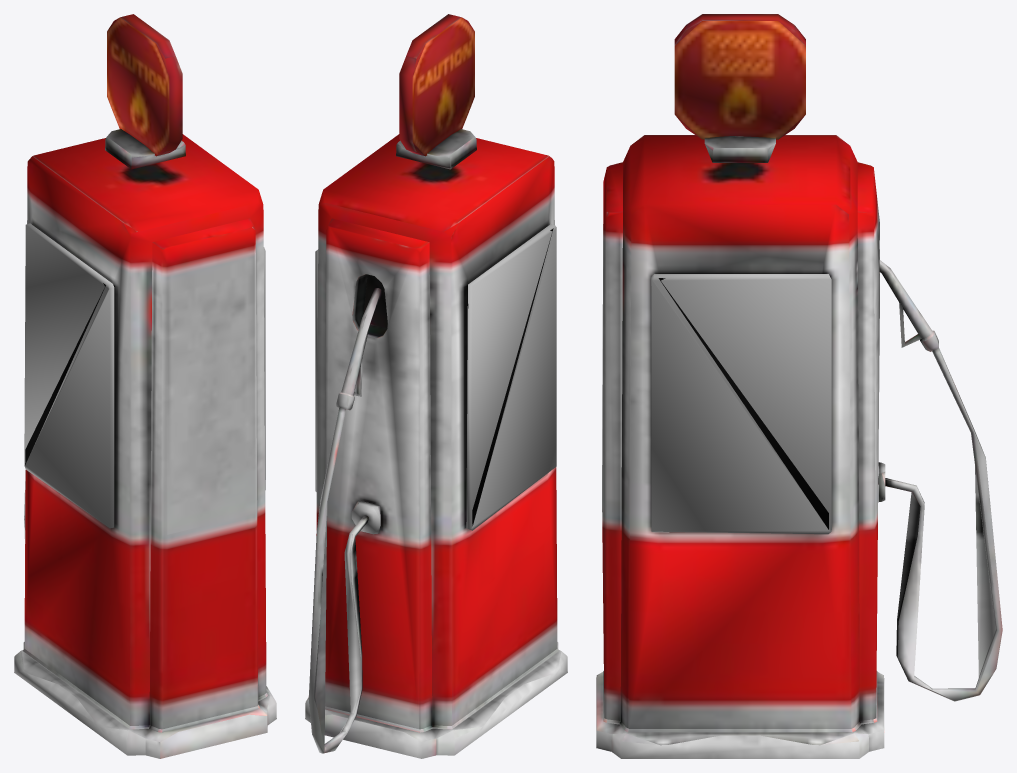
The model's file is fuel-dispenser.lod1.glb.
The picture shows the model from 3 angles, left to right: view 1: azimuth 30°, elevation 25°; view 2: azimuth 150°, elevation 25°; view 3: azimuth 270°, elevation 25°; orthographic projection. The views are drawn at different scales.
Parts seen in each view (by area): view 1: defaultMaterial (×2); view 2: defaultMaterial (×2); view 3: defaultMaterial (×2).
Boxes of the visible parts, bbox=[...] form: defaultMaterial (×2): bbox=[14, 14, 276, 758]; defaultMaterial (×2): bbox=[305, 14, 567, 758]; defaultMaterial (×2): bbox=[596, 14, 1002, 758].
Size of the model in its own units: 0.5918 by 2.27 by 1.19.
2 materials, 1 textured.
